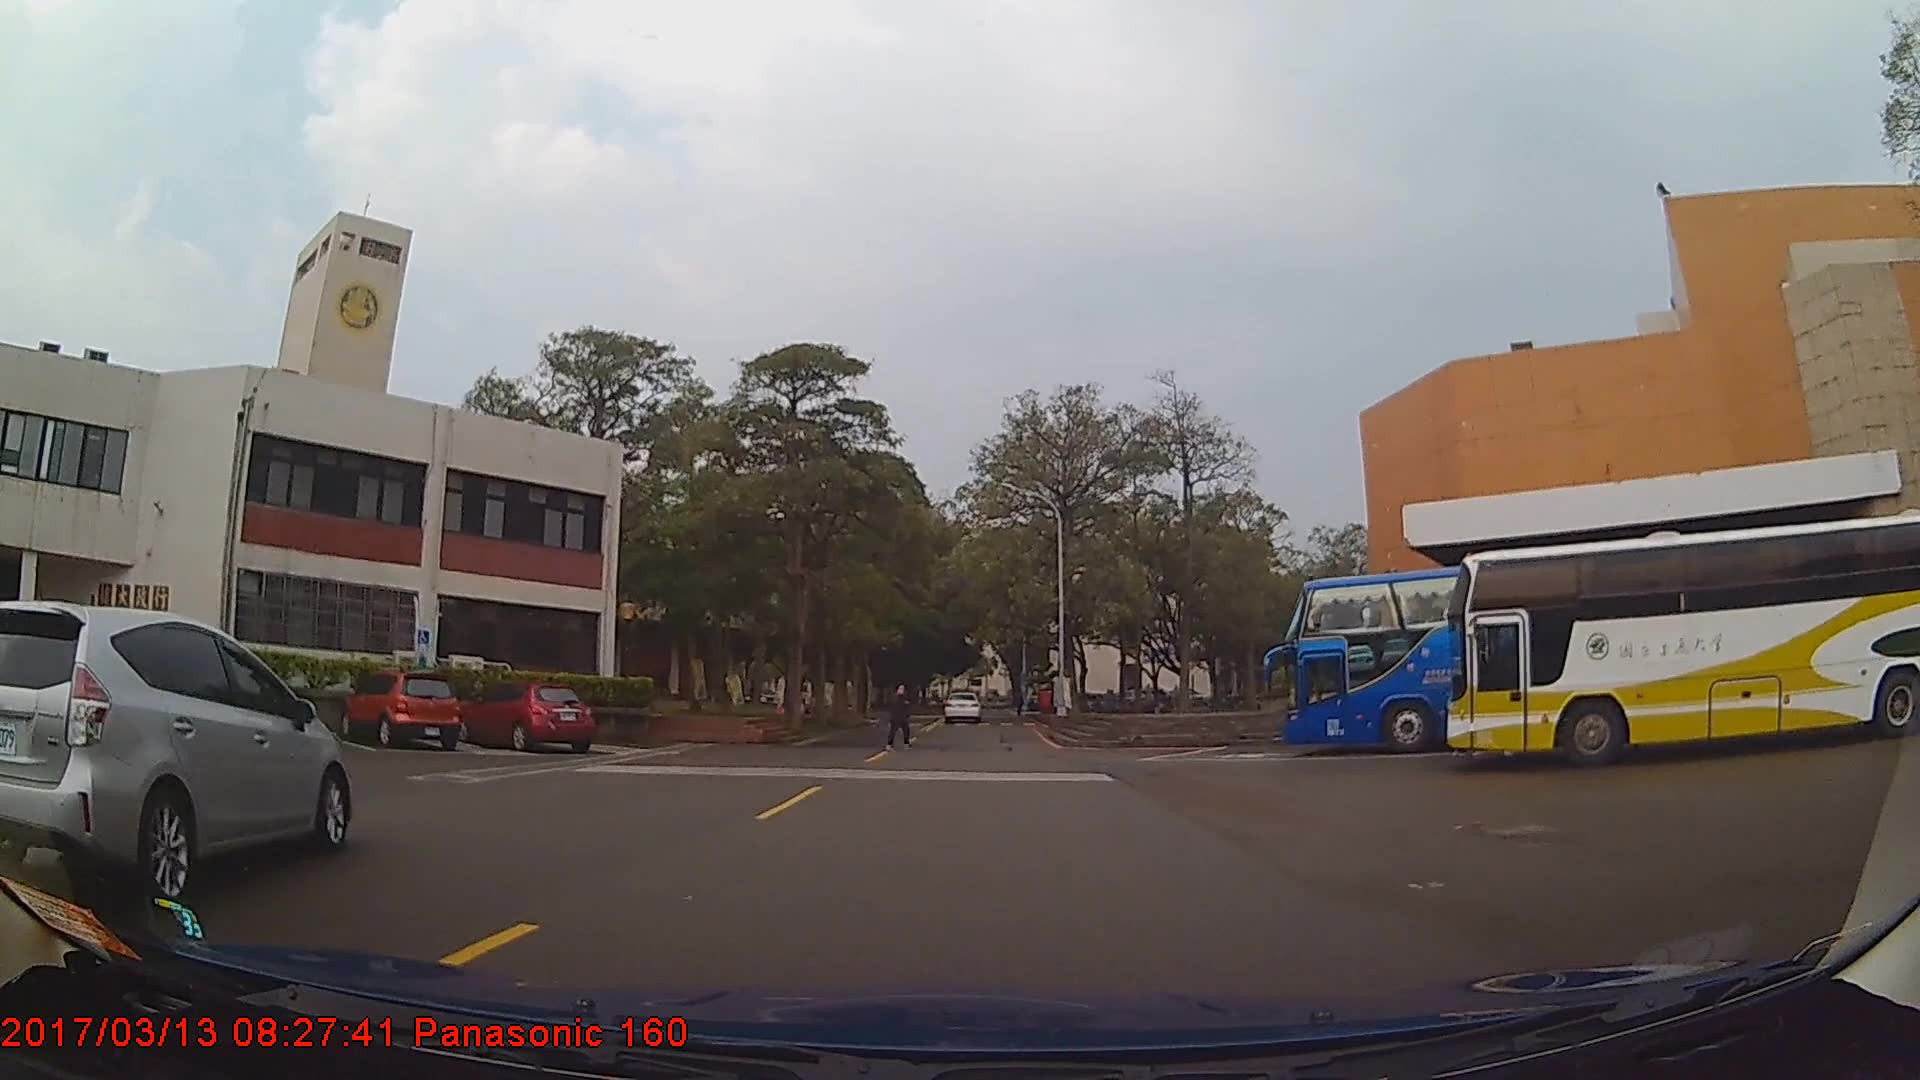pedestrian: (889, 681, 913, 750)
vehicle: (1286, 554, 1907, 756), (1448, 511, 1920, 769), (0, 601, 348, 900), (458, 678, 597, 752), (341, 670, 461, 748), (943, 691, 982, 725)
